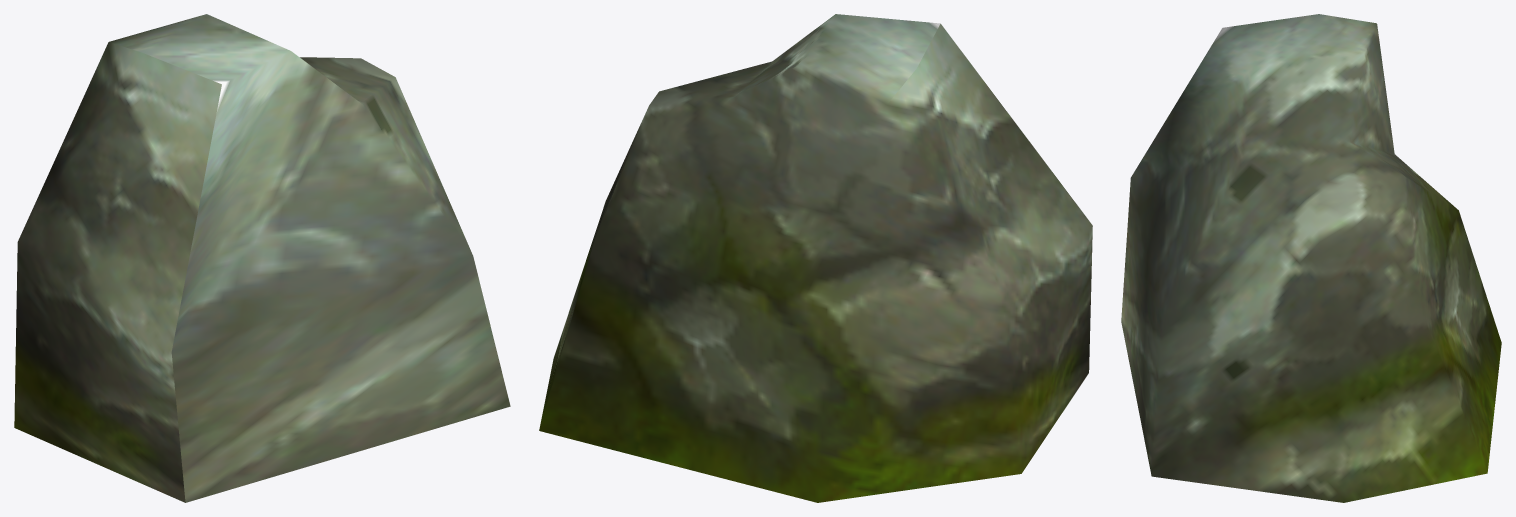
File: beijunxiudaoyuan_shitou_02.FBX
3 renders of one model, left to right at view 1: azimuth 30°, elevation 25°; view 2: azimuth 150°, elevation 25°; view 3: azimuth 270°, elevation 25°, orthographic. The views are drawn at different scales.
Parts seen in each view (by area): view 1: shitou03; view 2: shitou03; view 3: shitou03.
Boxes of the visible parts, <box> form: shitou03: <box>14,14,510,502</box>; shitou03: <box>539,14,1092,502</box>; shitou03: <box>1121,14,1501,502</box>.
Bounding box in the file's own units: 151 × 114 × 117.
